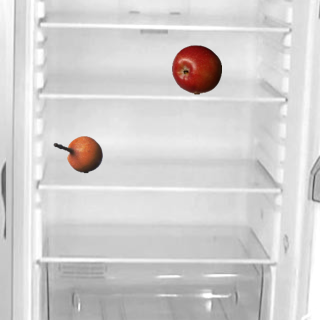Apple Braeburn: (171, 44, 221, 94)
Granadilla: (52, 129, 102, 179)
